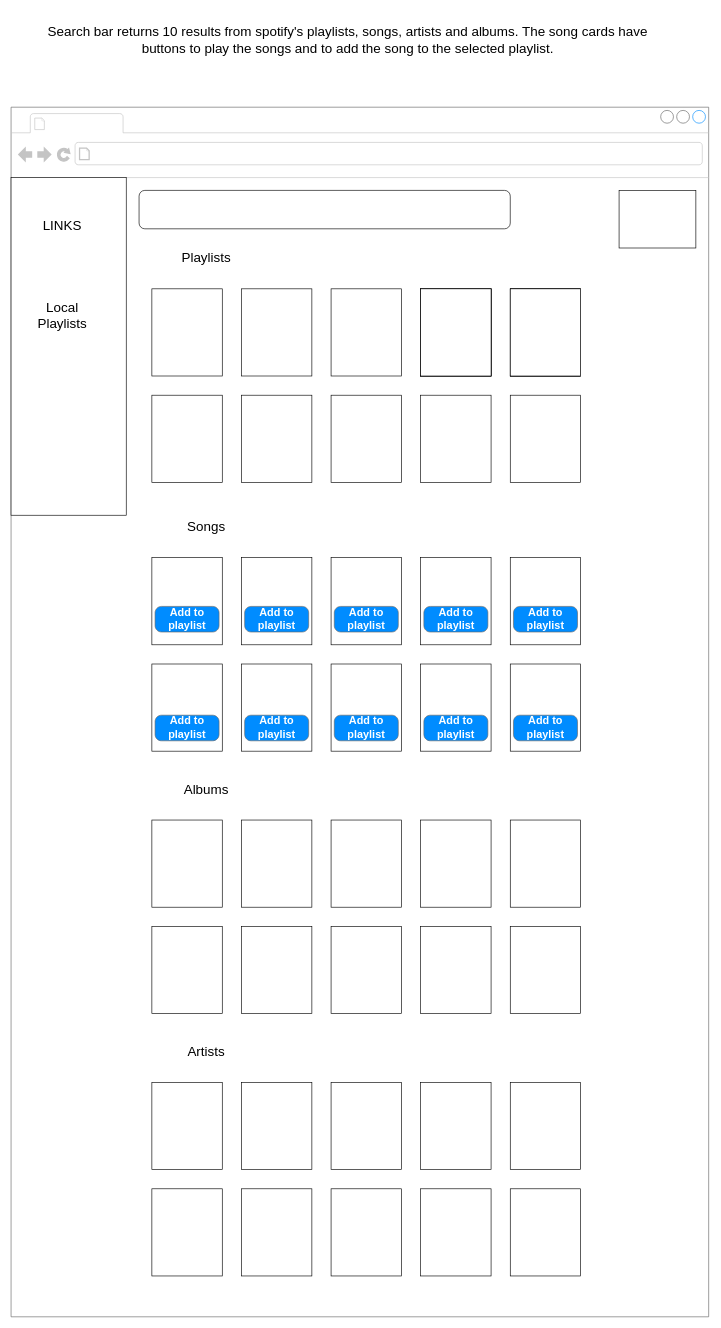
This 721x1328 diagram has some shape labels left out. Each missing label, with the centre of its shape:
https://localhost:4000/search: (x=174, y=153)
Logged in user menu: (x=657, y=219)
Main Search Bar: (x=324, y=209)
Spotify Clone: (x=84, y=123)
